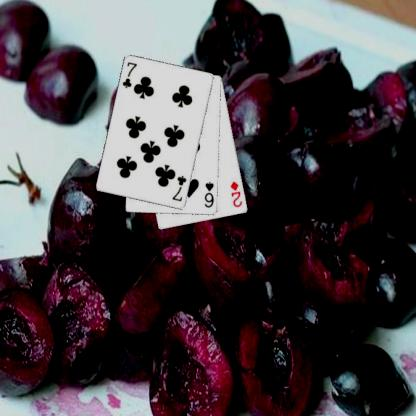2D: (228, 179, 244, 209)
6S: (202, 179, 215, 209)
7C: (169, 173, 188, 203), (120, 60, 138, 90)
